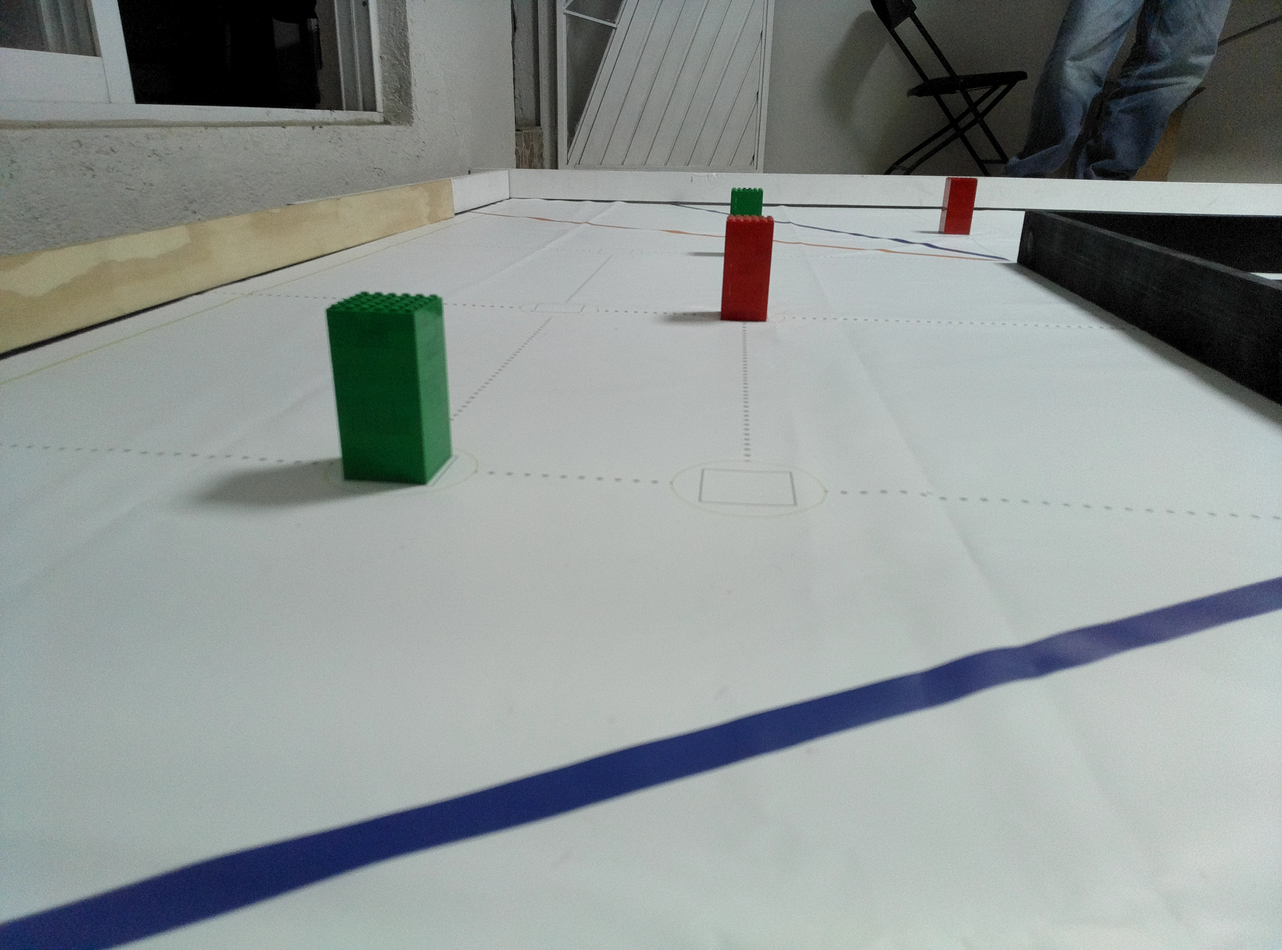greenbox: (320, 291, 454, 490), (728, 184, 763, 217)
redbox: (718, 214, 775, 324), (937, 175, 978, 237)
